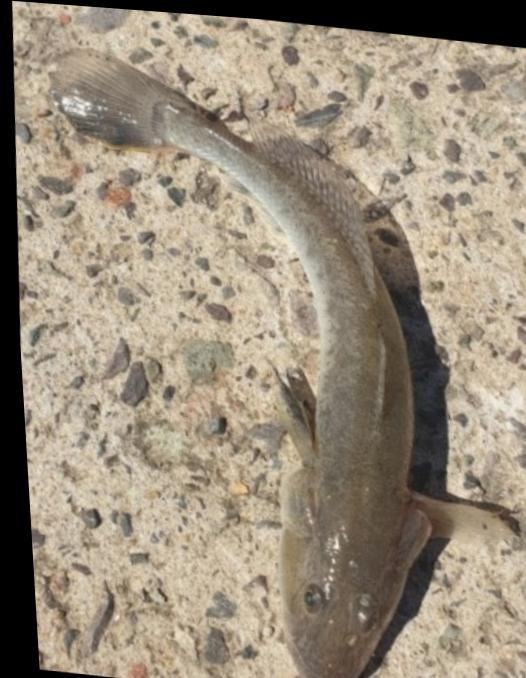fish: (51, 47, 512, 678)
